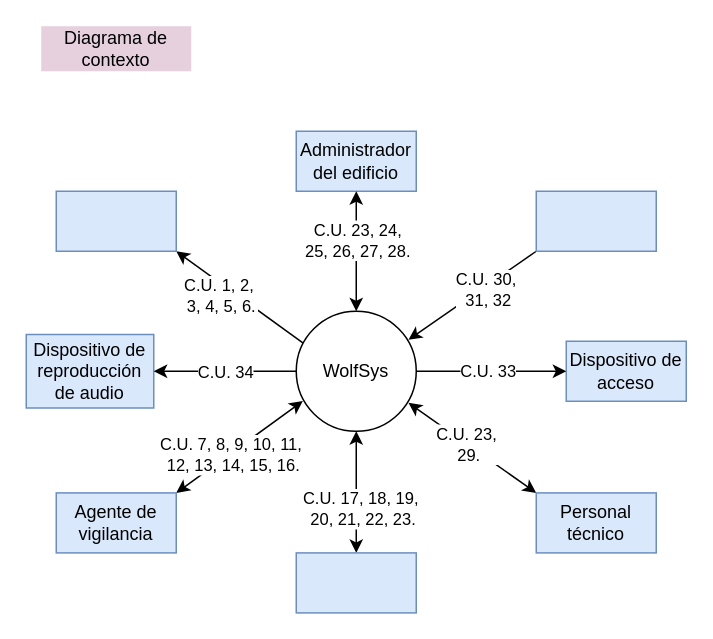
Image size: 713x639. Some labels were removed from this diagram. Each missing label, with the centre of its shape:
Administrador de WolfSys: point (355, 582)
Dispositivo de vigilancia: point (595, 220)
Residente/ Usuario final: point (115, 220)
